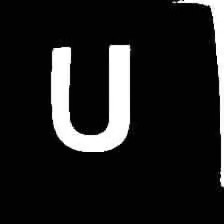LTR_U: (37, 31, 138, 159)
